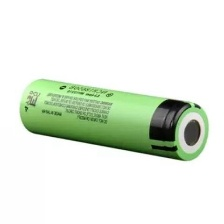battery: (16, 76, 212, 165)
